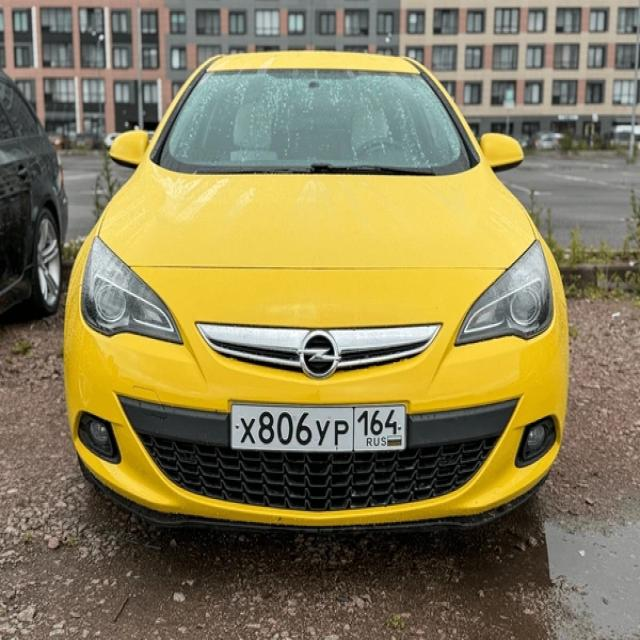opel: (295, 329, 351, 378)
